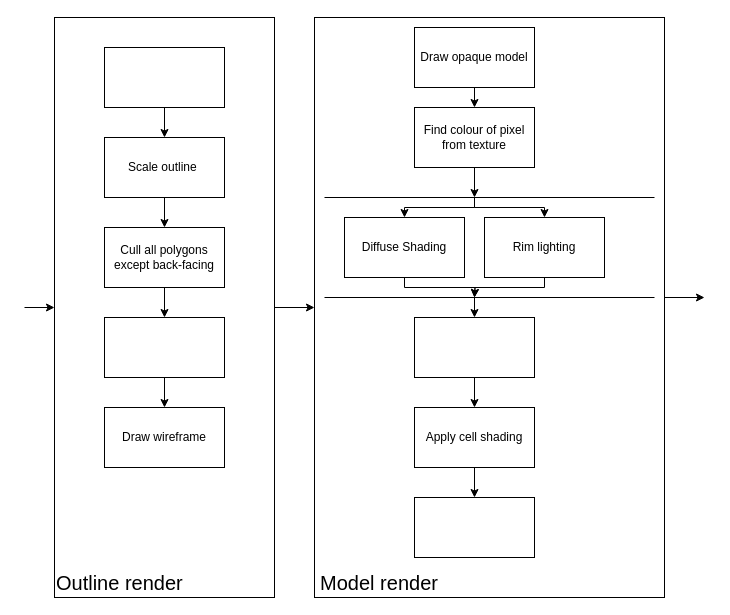
The diagram is 730 pixels wide and 615 high, and some of its shapes have lost their labels. Each missing label, with the centre of its shape:
"Offset positions of polygons" goes at (164,347).
"Reduce extreme values" goes at (474,347).
"Render pixel to screen" goes at (474,527).
"Use outline colour" goes at (164,77).
